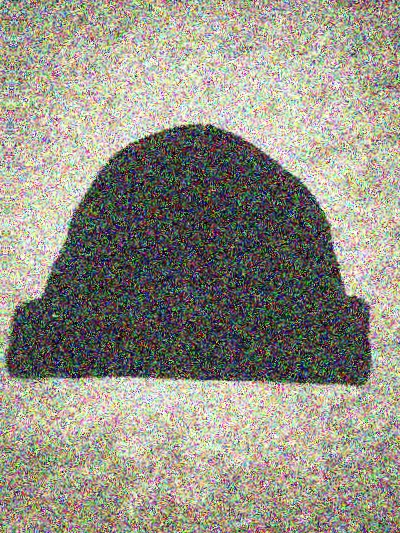Hat: (11, 78, 396, 415)
